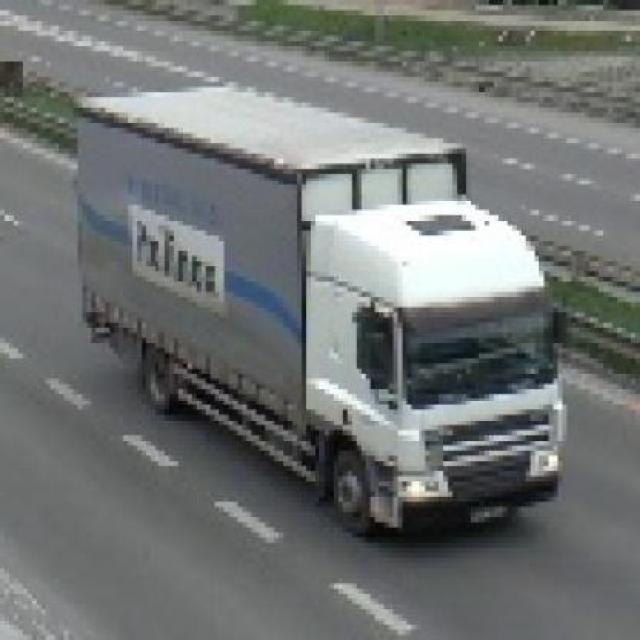truck: (79, 73, 573, 534)
